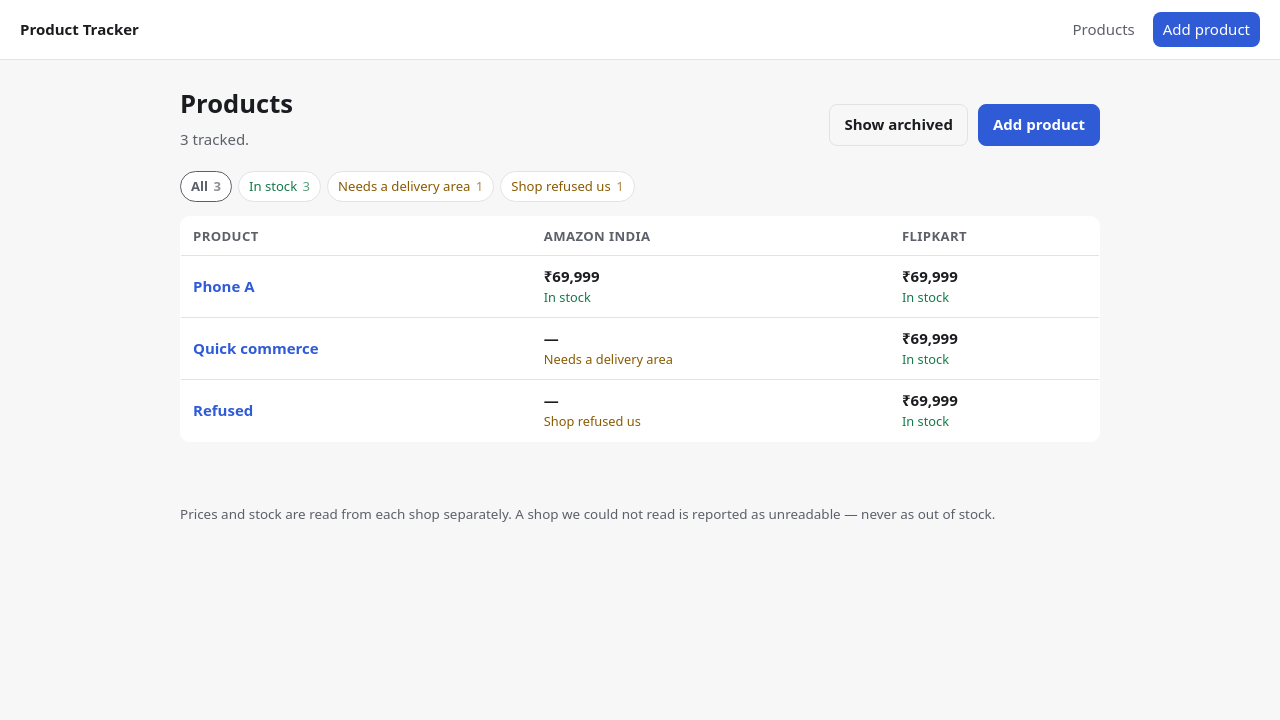
Test case: filtering the product list by state › narrows the table to the products in that state
The width and height of the screenshot is (1280, 720).
Check: the link "Phone A" is shown, box [193, 276, 254, 296]
Click the button "Needs a delivery area 1".
click(411, 186)  # box [327, 171, 494, 202]
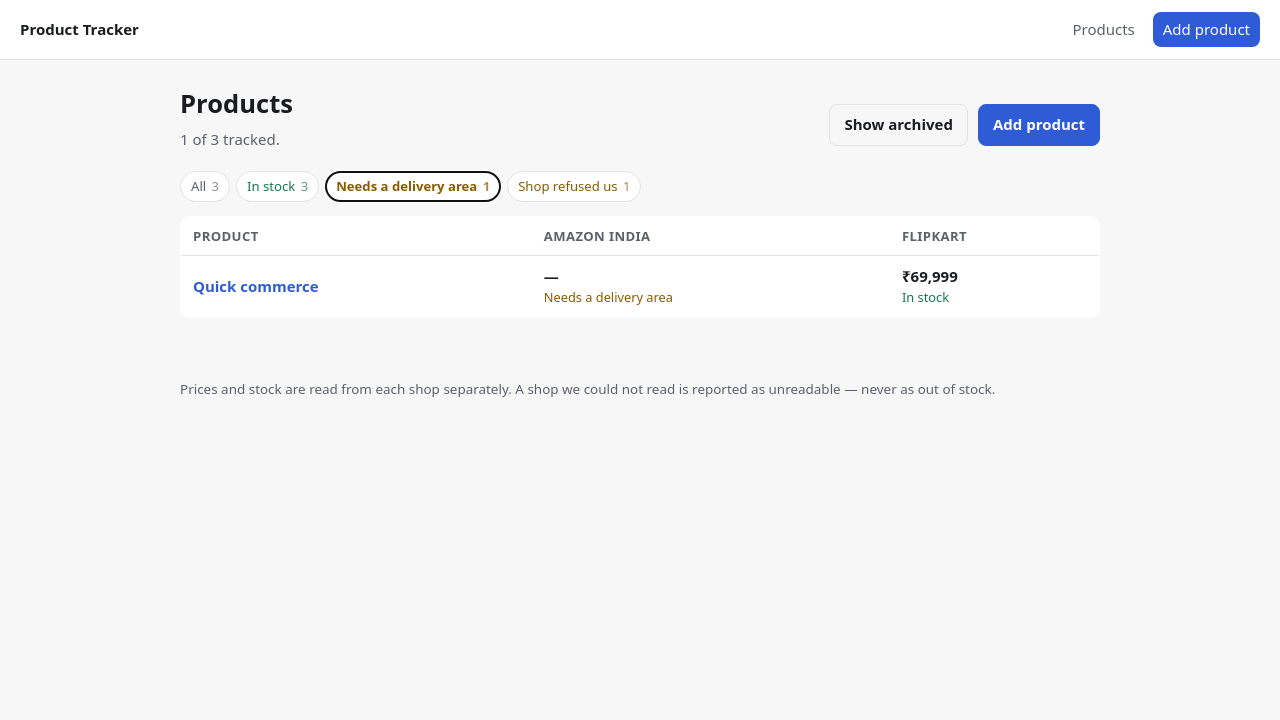
Check: the link "Quick commerce" is shown, box [193, 276, 319, 296]
Check: the link "Phone A" is gone
